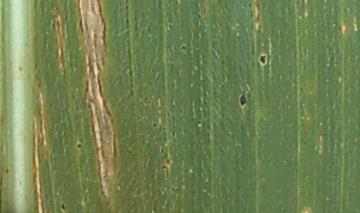tarspot: (237, 84, 252, 116), (257, 50, 271, 68), (75, 140, 85, 153), (150, 120, 161, 131), (57, 202, 69, 212), (159, 163, 172, 172), (161, 152, 172, 162), (179, 43, 190, 53), (3, 164, 12, 176), (18, 63, 25, 74)
